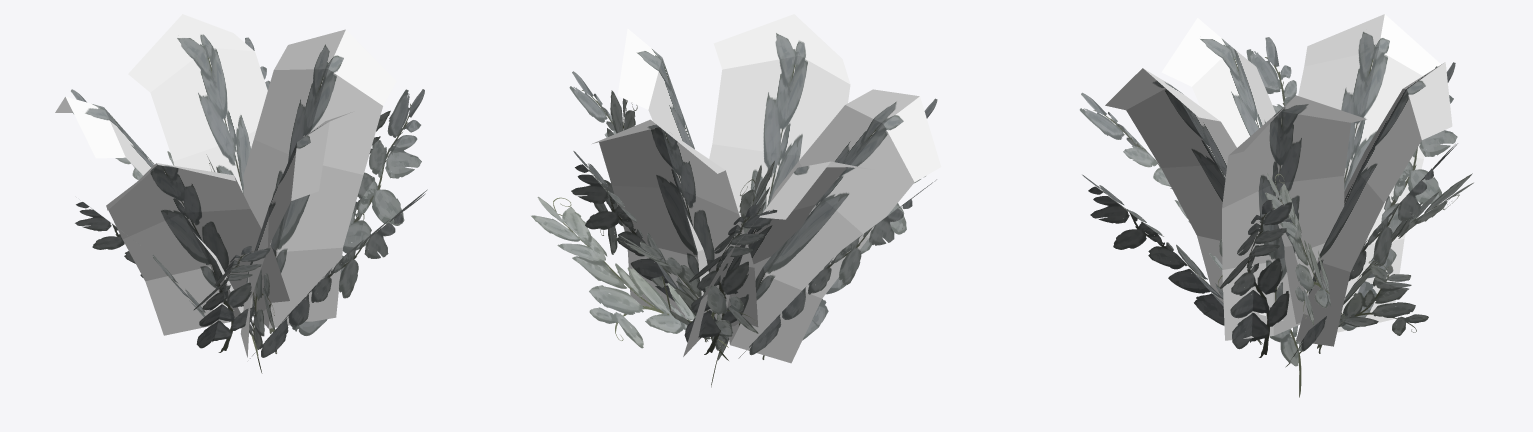
File: Bush 4.fbx
The picture shows the model from 3 angles, left to right: view 1: azimuth 30°, elevation 25°; view 2: azimuth 150°, elevation 25°; view 3: azimuth 270°, elevation 25°; orthographic projection. The views are drawn at different scales.
Visible parts, largest first — view 1: grass3.003, grass2.003, grass1.003; view 2: grass3.003, grass2.003, grass1.003; view 3: grass3.003, grass2.003, grass1.003.
Part boxes in pixels (box(x1,y1,x2,y2)): grass3.003: box(55, 14, 396, 357); grass2.003: box(71, 37, 427, 358); grass1.003: box(167, 110, 390, 373); grass3.003: box(592, 14, 941, 363); grass2.003: box(569, 71, 937, 359); grass1.003: box(531, 90, 774, 387); grass3.003: box(1105, 14, 1452, 346); grass2.003: box(1079, 37, 1457, 362); grass1.003: box(1217, 173, 1473, 397).
Size of the model in its own units: 347 by 263 by 335.
